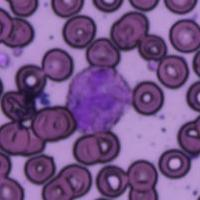E: (67, 66, 133, 134)
